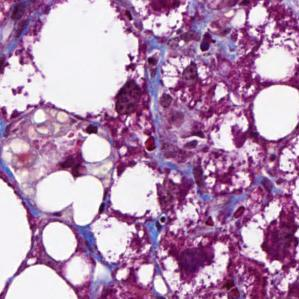inflammation: (197, 29, 218, 56), (84, 122, 102, 138), (159, 213, 171, 232), (98, 200, 110, 218)
